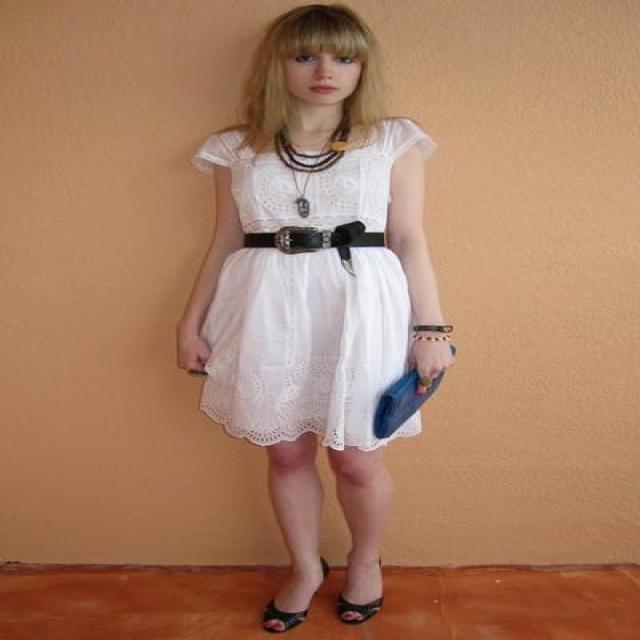bag: (373, 358, 443, 438)
dress: (197, 120, 427, 450)
pants: (260, 602, 306, 632)
